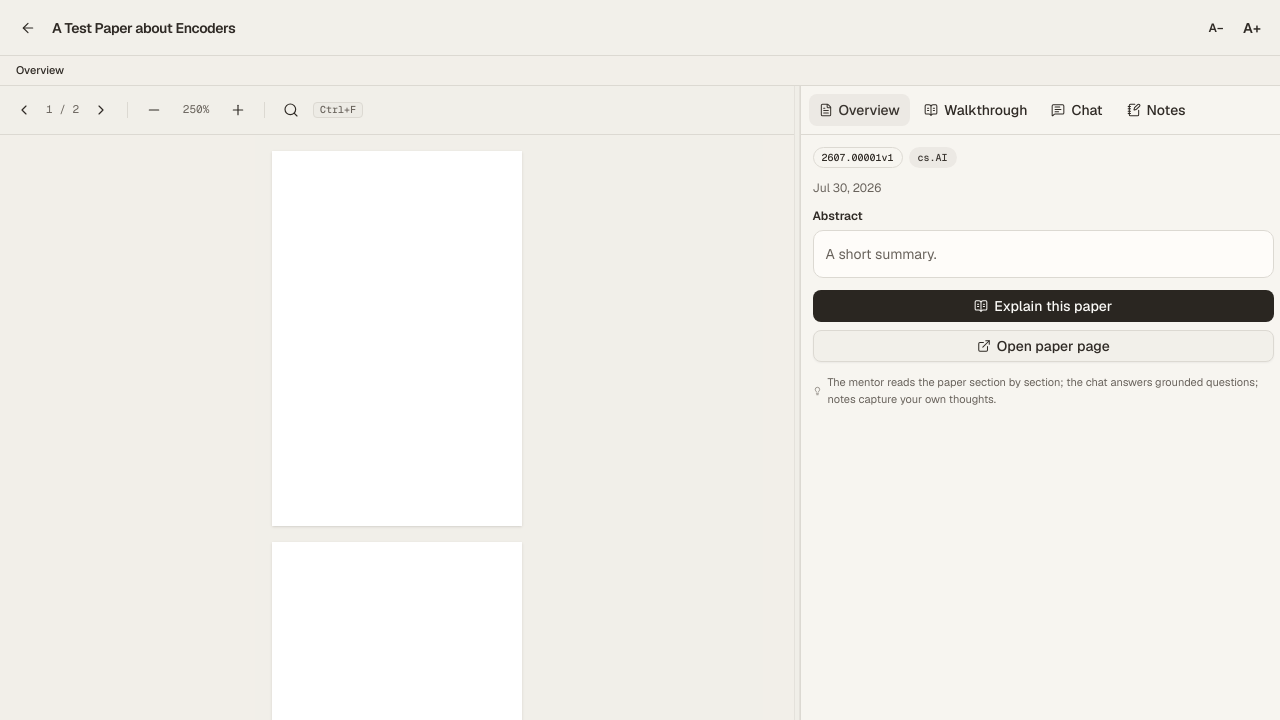
Test: reader open boundary › opens the PDF with a single parse and extracts text lazily on walkthrough
This screenshot has width=1280, height=720.
Check: the text "1 / 2" is shown, box [46, 101, 79, 118]
# The walkthrough tab shows the entry hint even before extraction.
Click the tab "Walkthrough" at (976, 110), box [914, 94, 1037, 126]
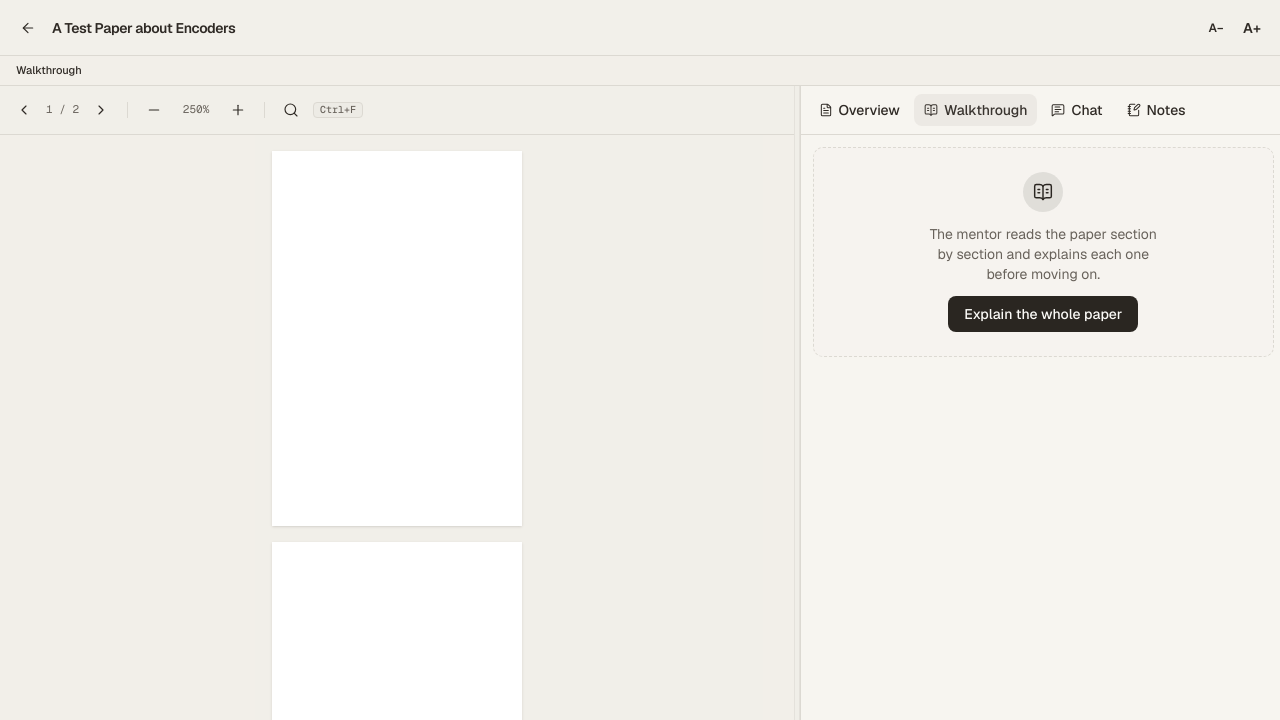
Check: the button "Explain the whole paper" is shown
Click the button "Explain the whole paper" at (1043, 314), box [948, 296, 1138, 332]
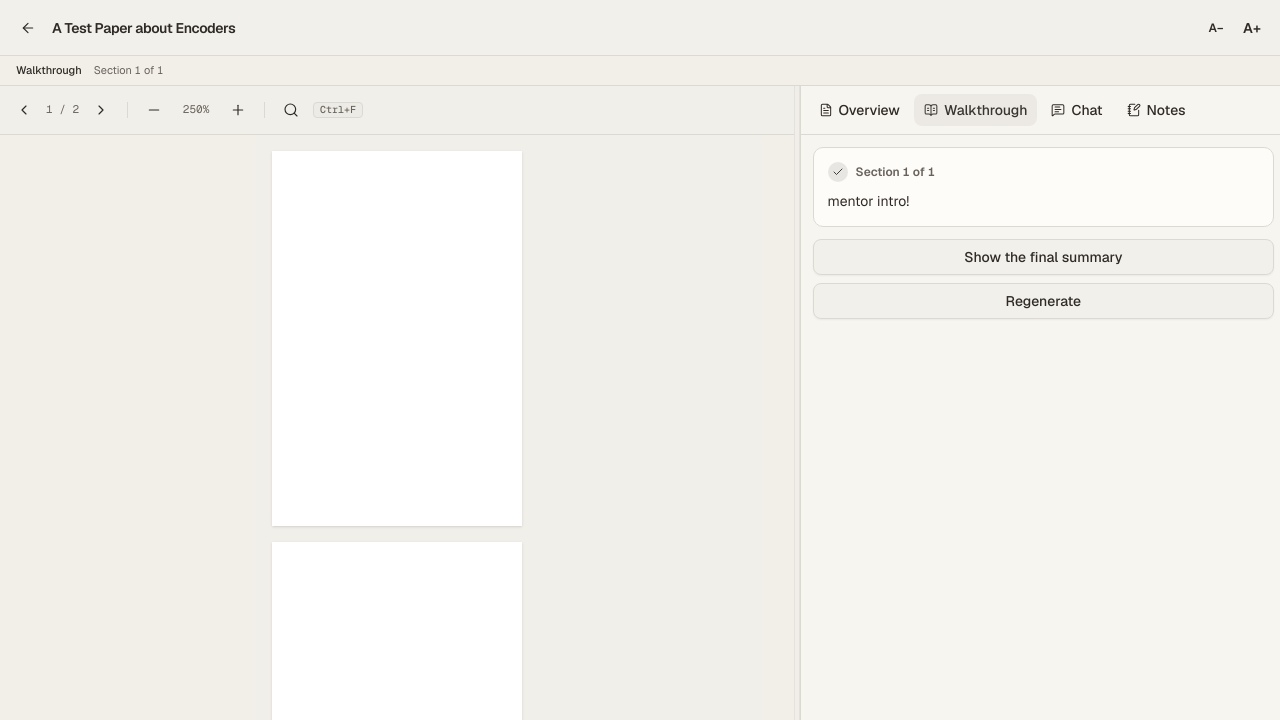
Check: the text "mentor intro!" is shown, box [828, 192, 909, 210]
